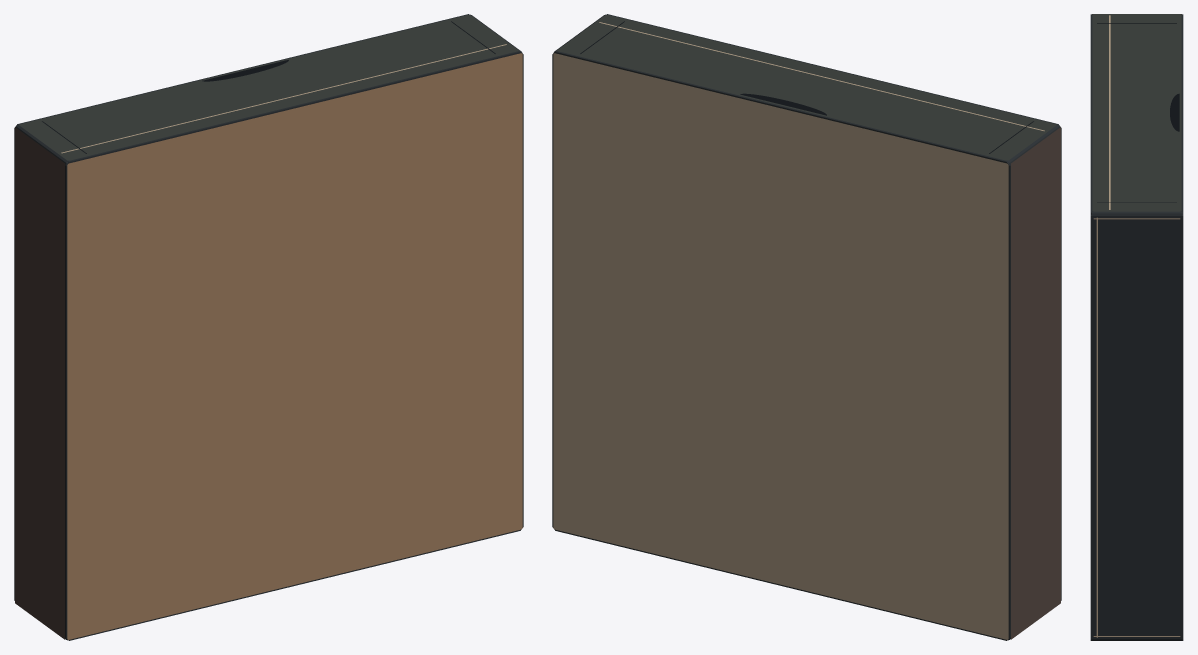
Rendered from carton.glb.
The picture shows the model from 3 angles, left to right: view 1: azimuth 30°, elevation 25°; view 2: azimuth 150°, elevation 25°; view 3: azimuth 270°, elevation 25°; orthographic projection. The views are drawn at different scales.
Visible parts, largest first — view 1: Detail_carton, Shelf_carton; view 2: Detail_carton, Shelf_carton; view 3: Detail_carton, Shelf_carton.
Boxes of the visible parts, x1,y1,x2,y2 form: Detail_carton: (15,14,522,640); Shelf_carton: (14,14,523,640); Detail_carton: (553,14,1060,640); Shelf_carton: (552,14,1061,640); Detail_carton: (1091,14,1182,640); Shelf_carton: (1090,14,1183,640).
Size of the model in its own units: 0.127 by 0.127 by 0.025.
